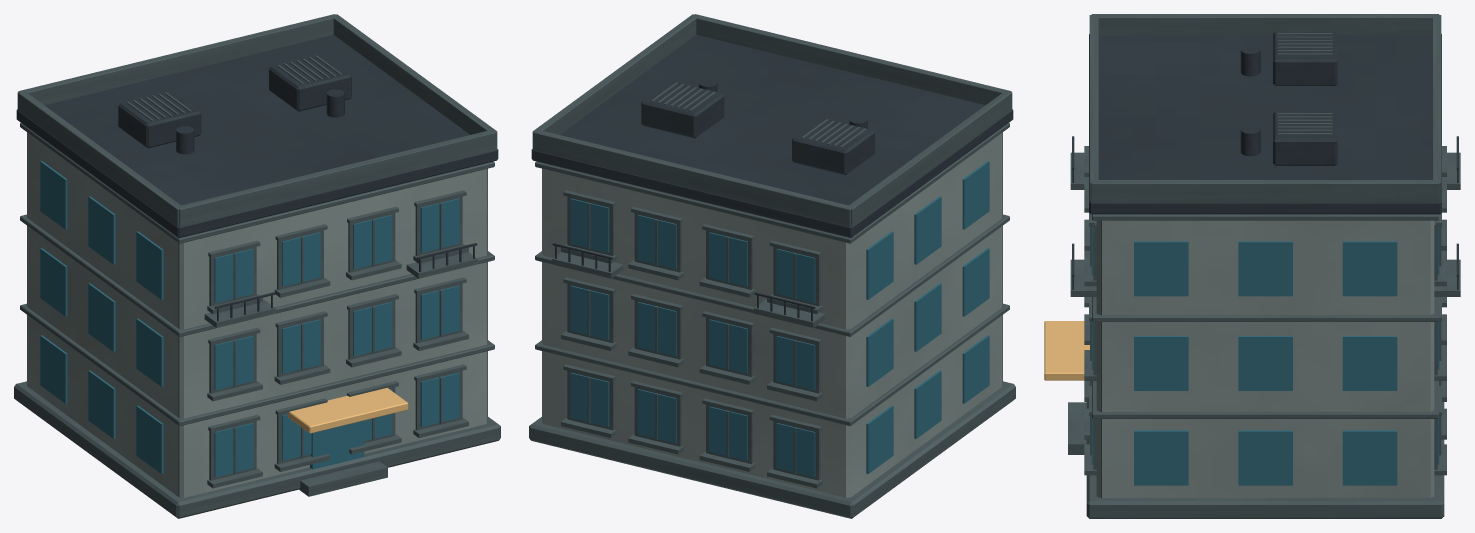
The model's file is cityblock.glb.
3 views of the same model, side by side, from view 1: azimuth 30°, elevation 25°; view 2: azimuth 150°, elevation 25°; view 3: azimuth 270°, elevation 25° (orthographic). The views are drawn at different scales.
Visible parts, largest first — view 1: Surface CityPlaster, Surface CityConcrete, Surface CityRoof, Surface CityWindow, Fine CityConcrete, Surface CityOchre; view 2: Surface CityPlaster, Surface CityConcrete, Surface CityRoof, Surface CityWindow, Fine CityConcrete; view 3: Surface CityPlaster, Surface CityRoof, Surface CityConcrete, Surface CityWindow, Fine CityConcrete, Surface CityOchre.
Part boxes in pixels (left/top/right/bottom): Surface CityPlaster: left=27, top=132, right=487, bottom=497; Surface CityConcrete: left=14, top=14, right=500, bottom=518; Surface CityRoof: left=16, top=34, right=498, bottom=496; Surface CityWindow: left=40, top=161, right=459, bottom=477; Fine CityConcrete: left=126, top=55, right=466, bottom=473; Surface CityOchre: left=287, top=387, right=408, bottom=433; Surface CityPlaster: left=542, top=132, right=1002, bottom=497; Surface CityConcrete: left=529, top=14, right=1015, bottom=518; Surface CityRoof: left=531, top=34, right=1013, bottom=386; Surface CityWindow: left=570, top=161, right=989, bottom=477; Fine CityConcrete: left=563, top=82, right=866, bottom=473; Surface CityPlaster: left=1096, top=220, right=1434, bottom=497; Surface CityRoof: left=1072, top=31, right=1458, bottom=497; Surface CityConcrete: left=1068, top=14, right=1460, bottom=518; Surface CityWindow: left=1089, top=226, right=1439, bottom=485; Fine CityConcrete: left=1089, top=33, right=1441, bottom=455; Surface CityOchre: left=1044, top=321, right=1089, bottom=380.
Size of the model in its own units: 8.2 by 7.73 by 8.37.
Materials: 5 (3 with a texture image).
